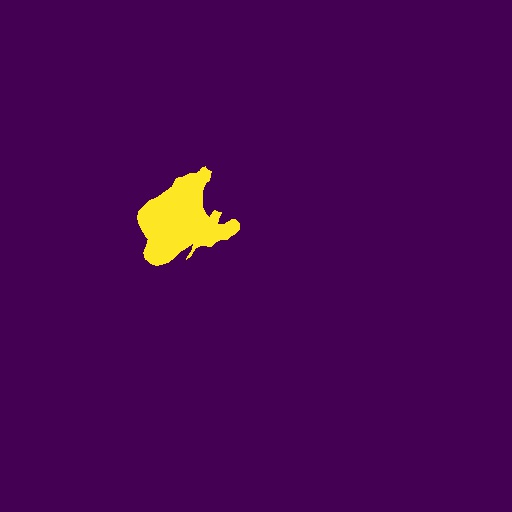Gliomia_tumour: (137, 166, 240, 266)
